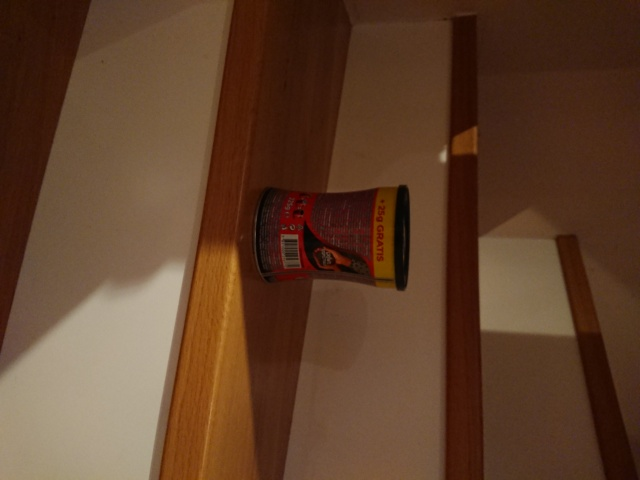Nescafe Classic 225g: (250, 182, 414, 293)
